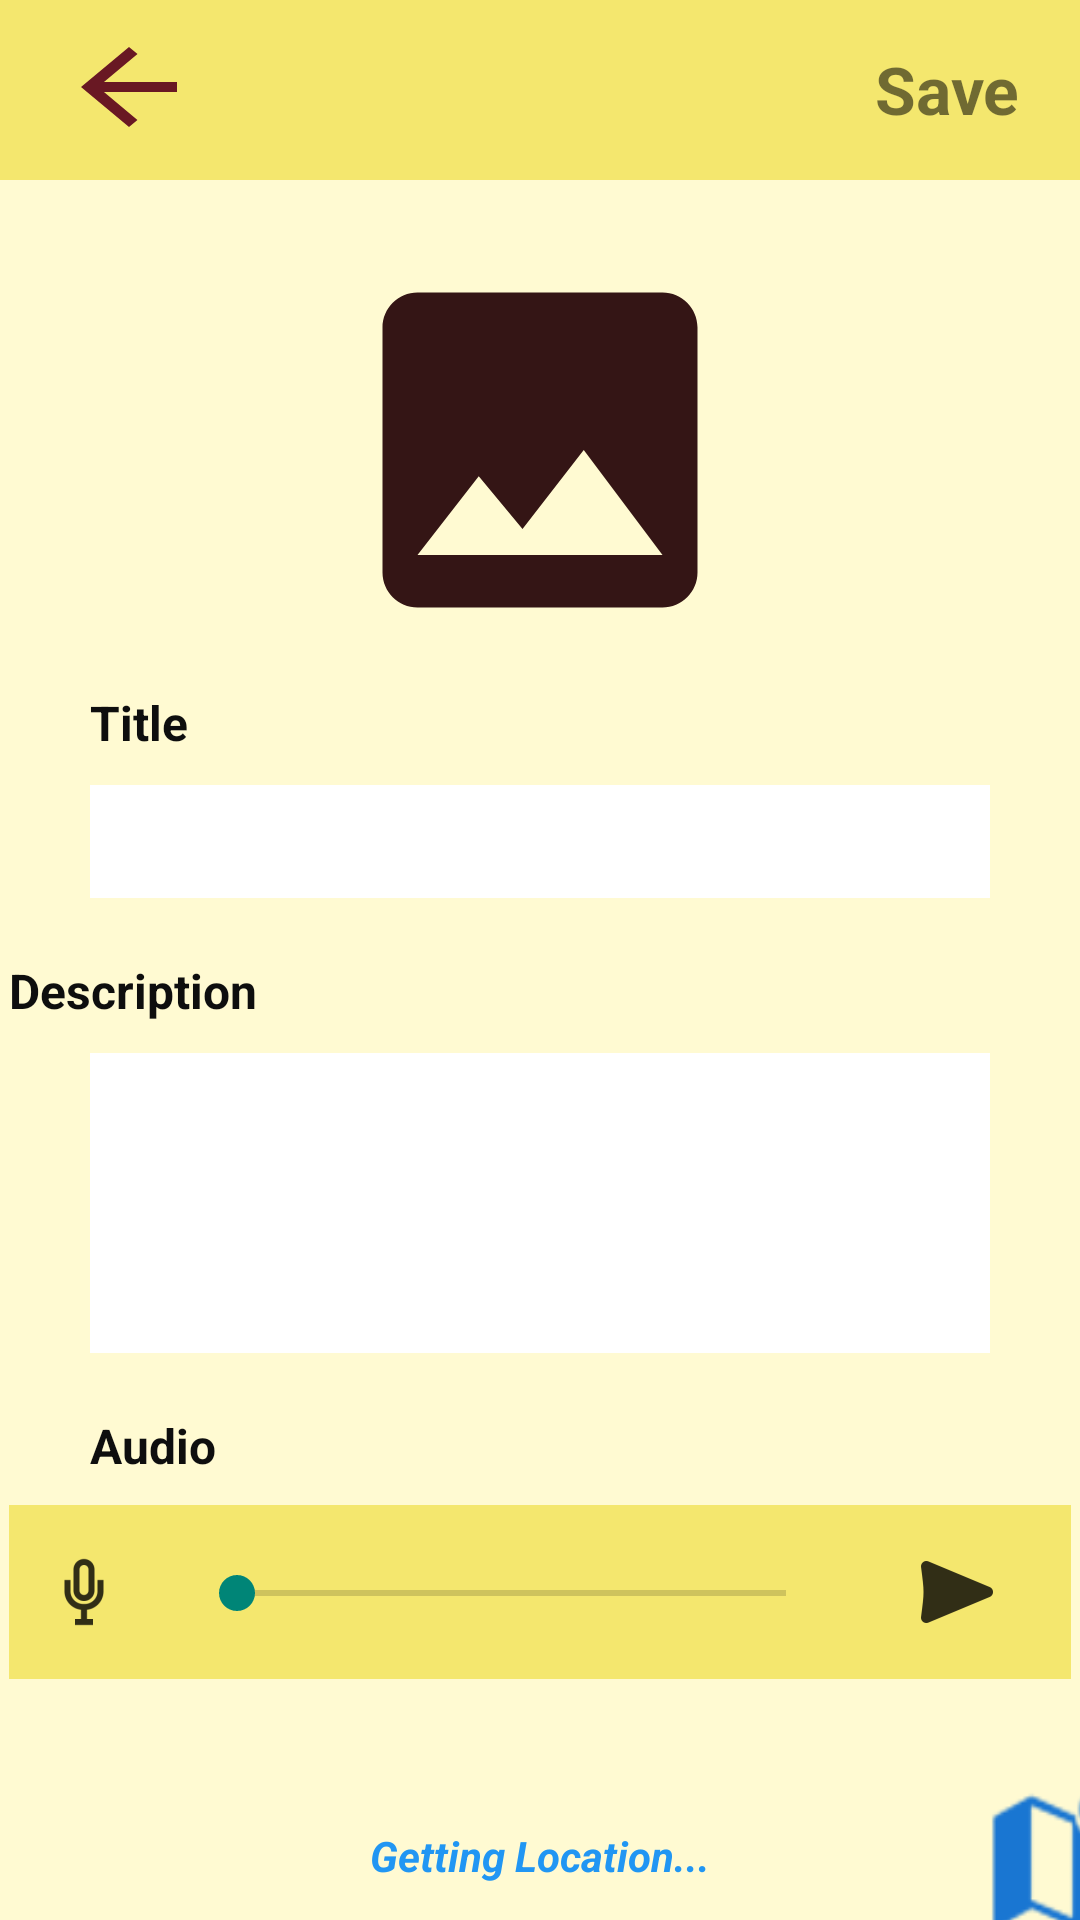

Point at icon controls on the screen. Image size 1080px×1920px, points as (x=x, y=y).
back arrow: (x=129, y=87)
play: (x=957, y=1592)
record action: (x=84, y=1592)
